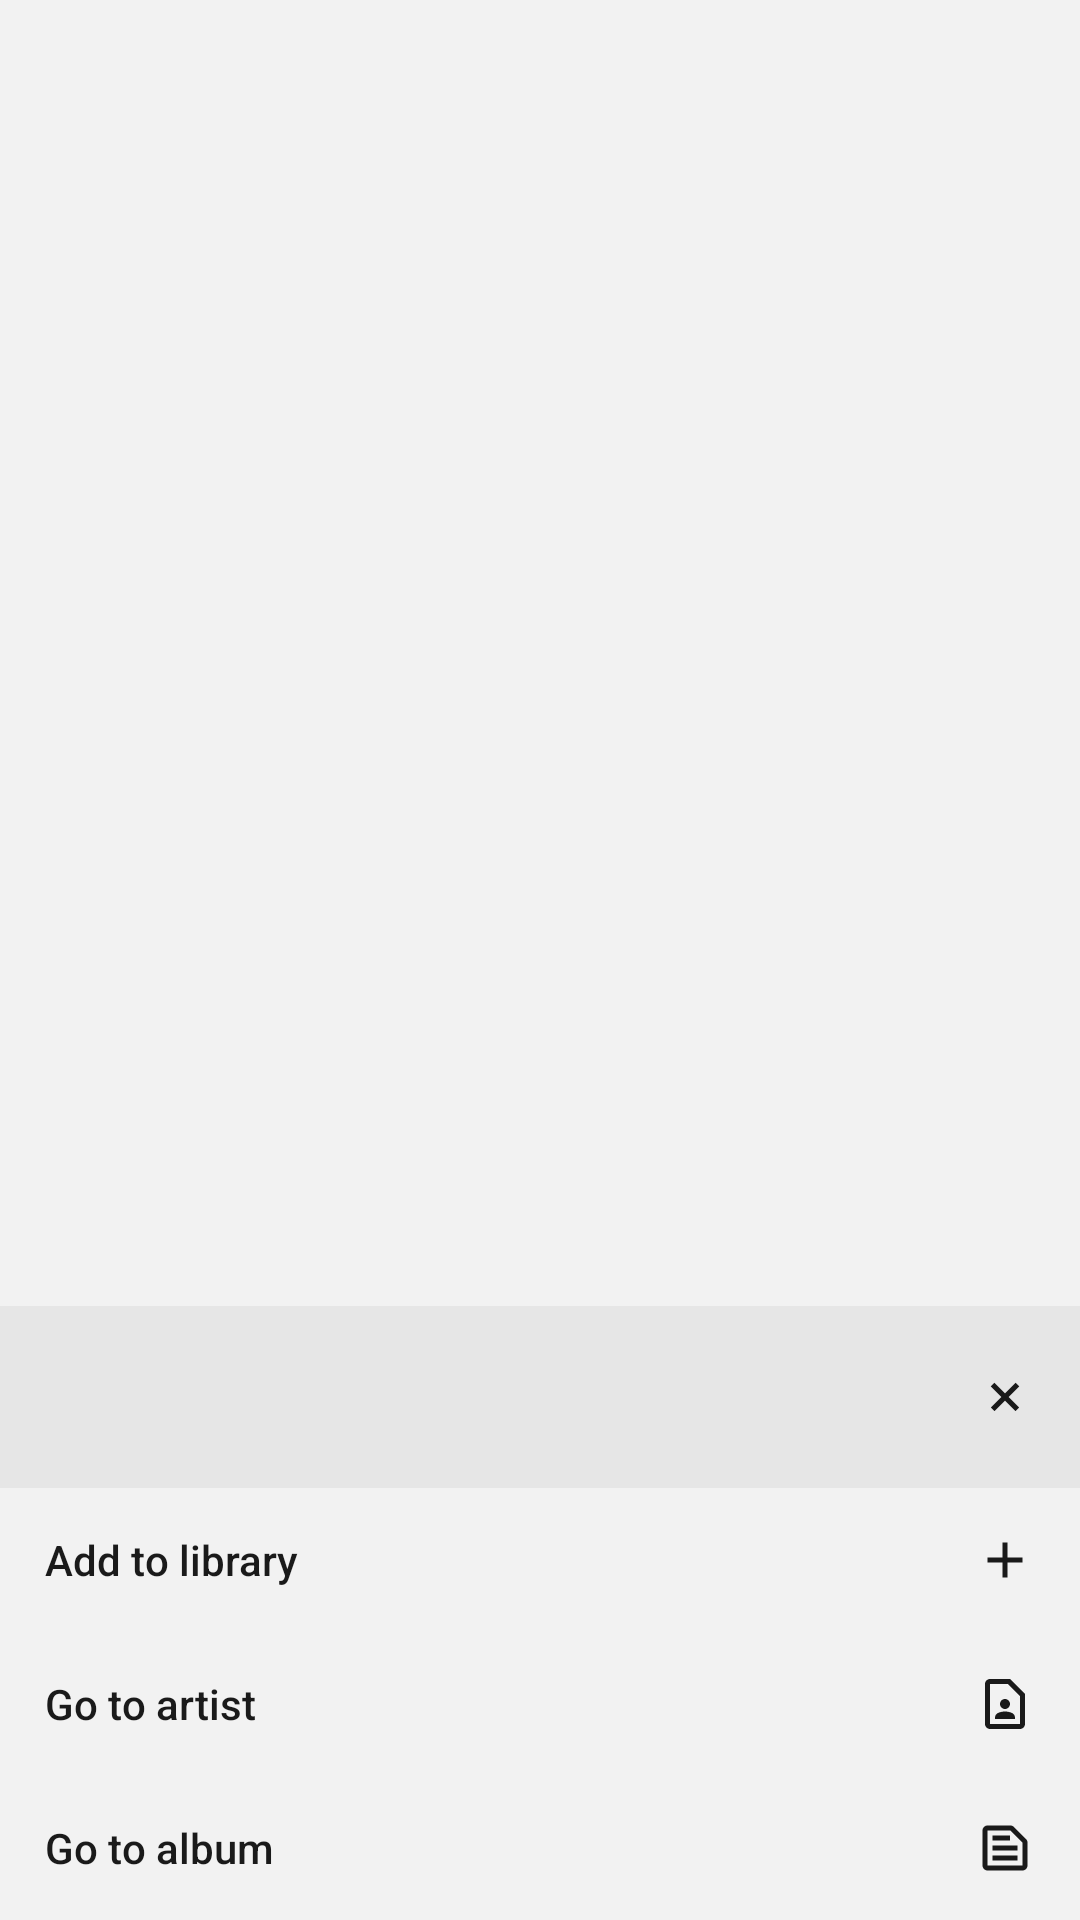

Locate icon controls on the screen. Image size 1080x1920, boxes as (x1, y1, x2, y2).
close: (991, 1383, 1019, 1411)
